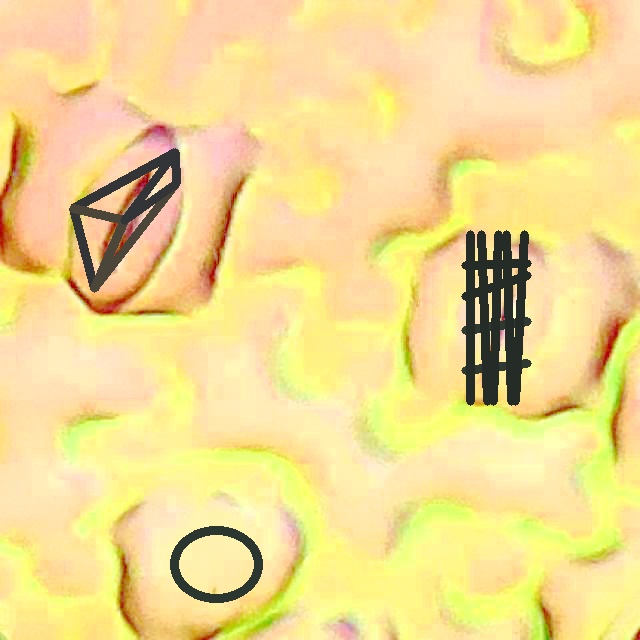close: (461, 230, 531, 405), (169, 525, 263, 603)
open: (69, 148, 180, 292)
